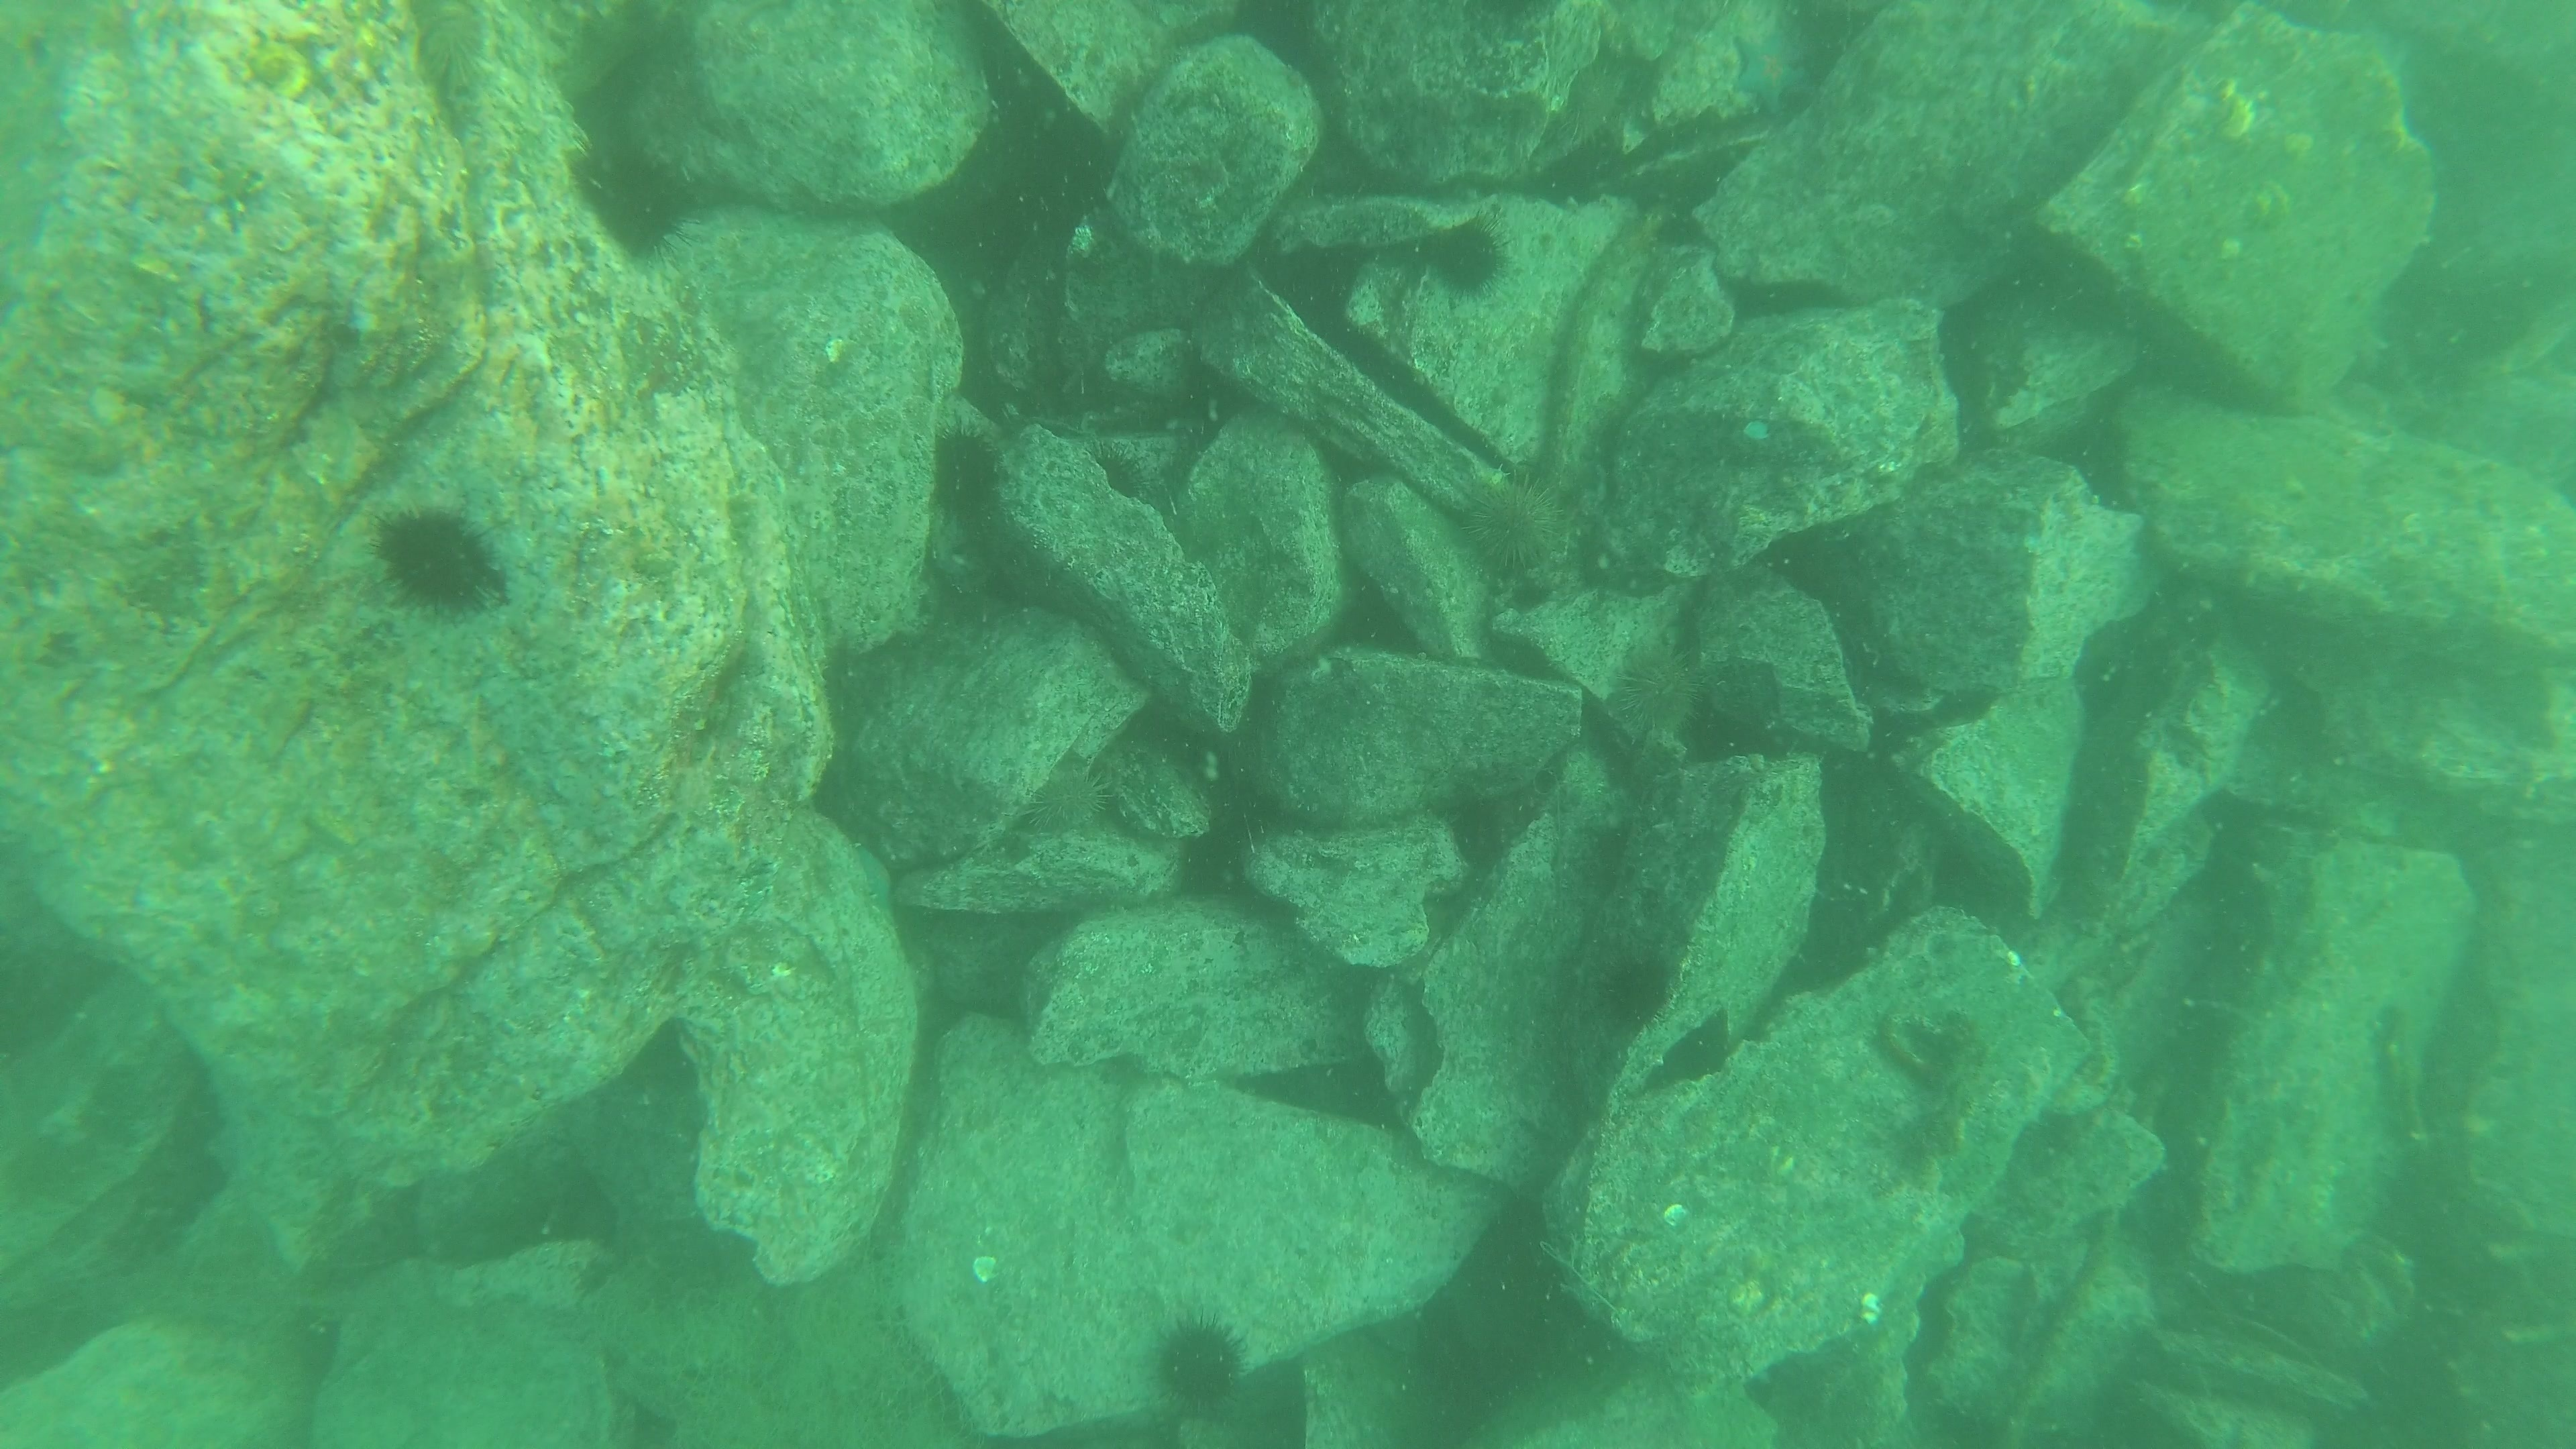echinus: (1440, 464, 1576, 593), (366, 499, 510, 619), (579, 143, 699, 262), (1605, 630, 1711, 754), (1143, 1311, 1254, 1419), (922, 418, 1012, 529), (1412, 211, 1514, 303), (1587, 941, 1681, 1035), (1014, 754, 1102, 828), (1081, 435, 1150, 501)
starfish: (1721, 16, 1819, 124)
